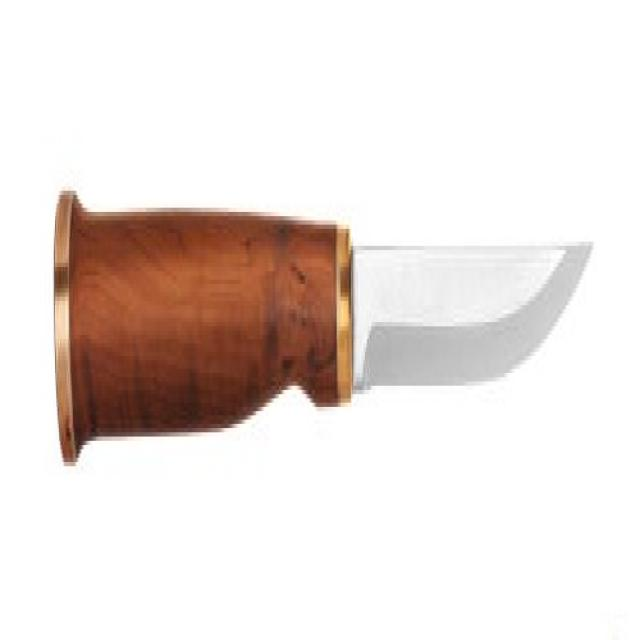knife: (55, 186, 597, 472)
